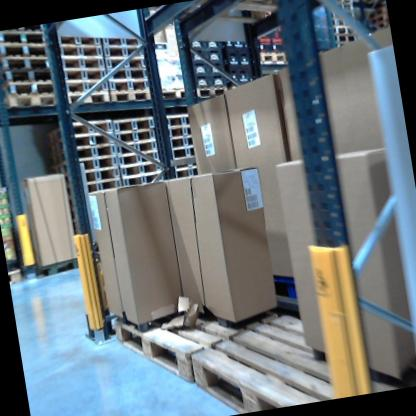pallet: (177, 287, 416, 416), (111, 285, 287, 400), (143, 0, 296, 38), (42, 128, 119, 158), (0, 86, 62, 121), (42, 116, 116, 141), (42, 141, 114, 166), (3, 71, 61, 101), (0, 61, 60, 89), (0, 36, 48, 67), (57, 38, 106, 66), (55, 26, 107, 52), (0, 25, 48, 51), (105, 49, 153, 74), (101, 37, 144, 64), (57, 51, 105, 75), (0, 52, 50, 75), (117, 158, 163, 182), (98, 30, 144, 54), (66, 152, 120, 172), (66, 87, 111, 111), (111, 112, 157, 135), (62, 72, 110, 94), (63, 63, 108, 86), (68, 165, 116, 185), (108, 85, 152, 105), (108, 72, 148, 93), (109, 61, 151, 80), (77, 179, 121, 197), (115, 148, 159, 166), (158, 82, 195, 103), (121, 172, 165, 189), (113, 138, 157, 155), (111, 129, 158, 144), (157, 111, 195, 128), (165, 122, 197, 140), (167, 135, 199, 151), (171, 146, 201, 161), (8, 266, 26, 290), (172, 167, 202, 181), (330, 32, 360, 46), (173, 157, 201, 171), (331, 24, 357, 38), (328, 14, 357, 24)
